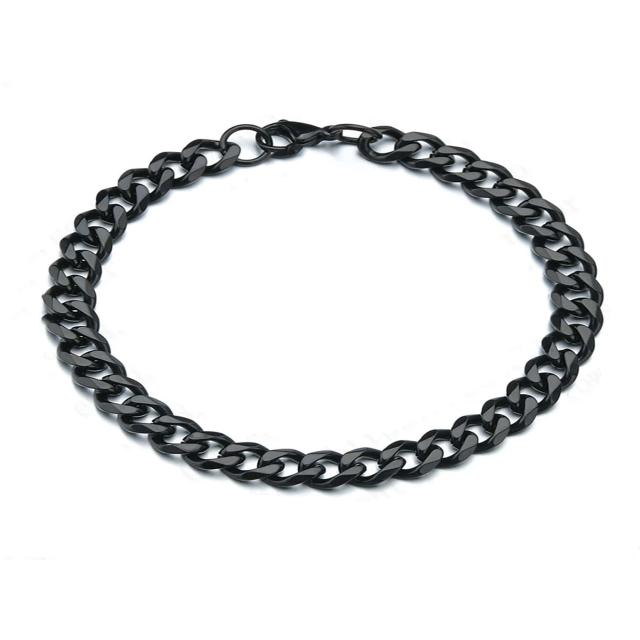bracelet: (13, 53, 637, 501)
